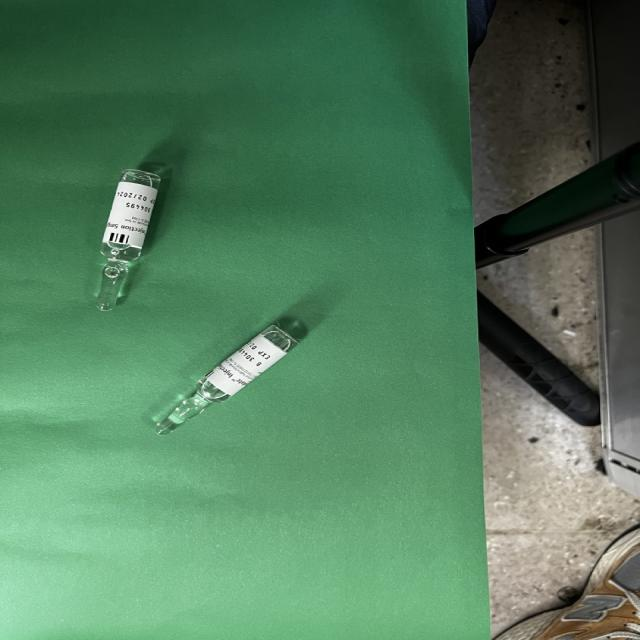Ampoules: (157, 326, 299, 434), (97, 168, 161, 310)
